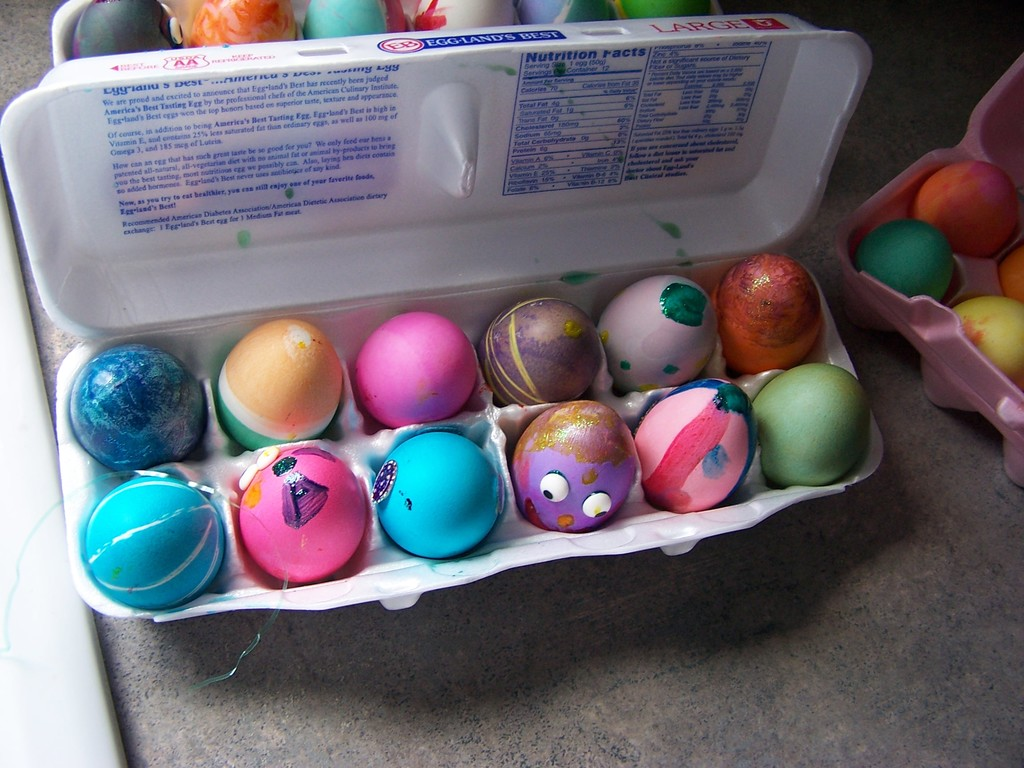person: (122, 1, 447, 48)
